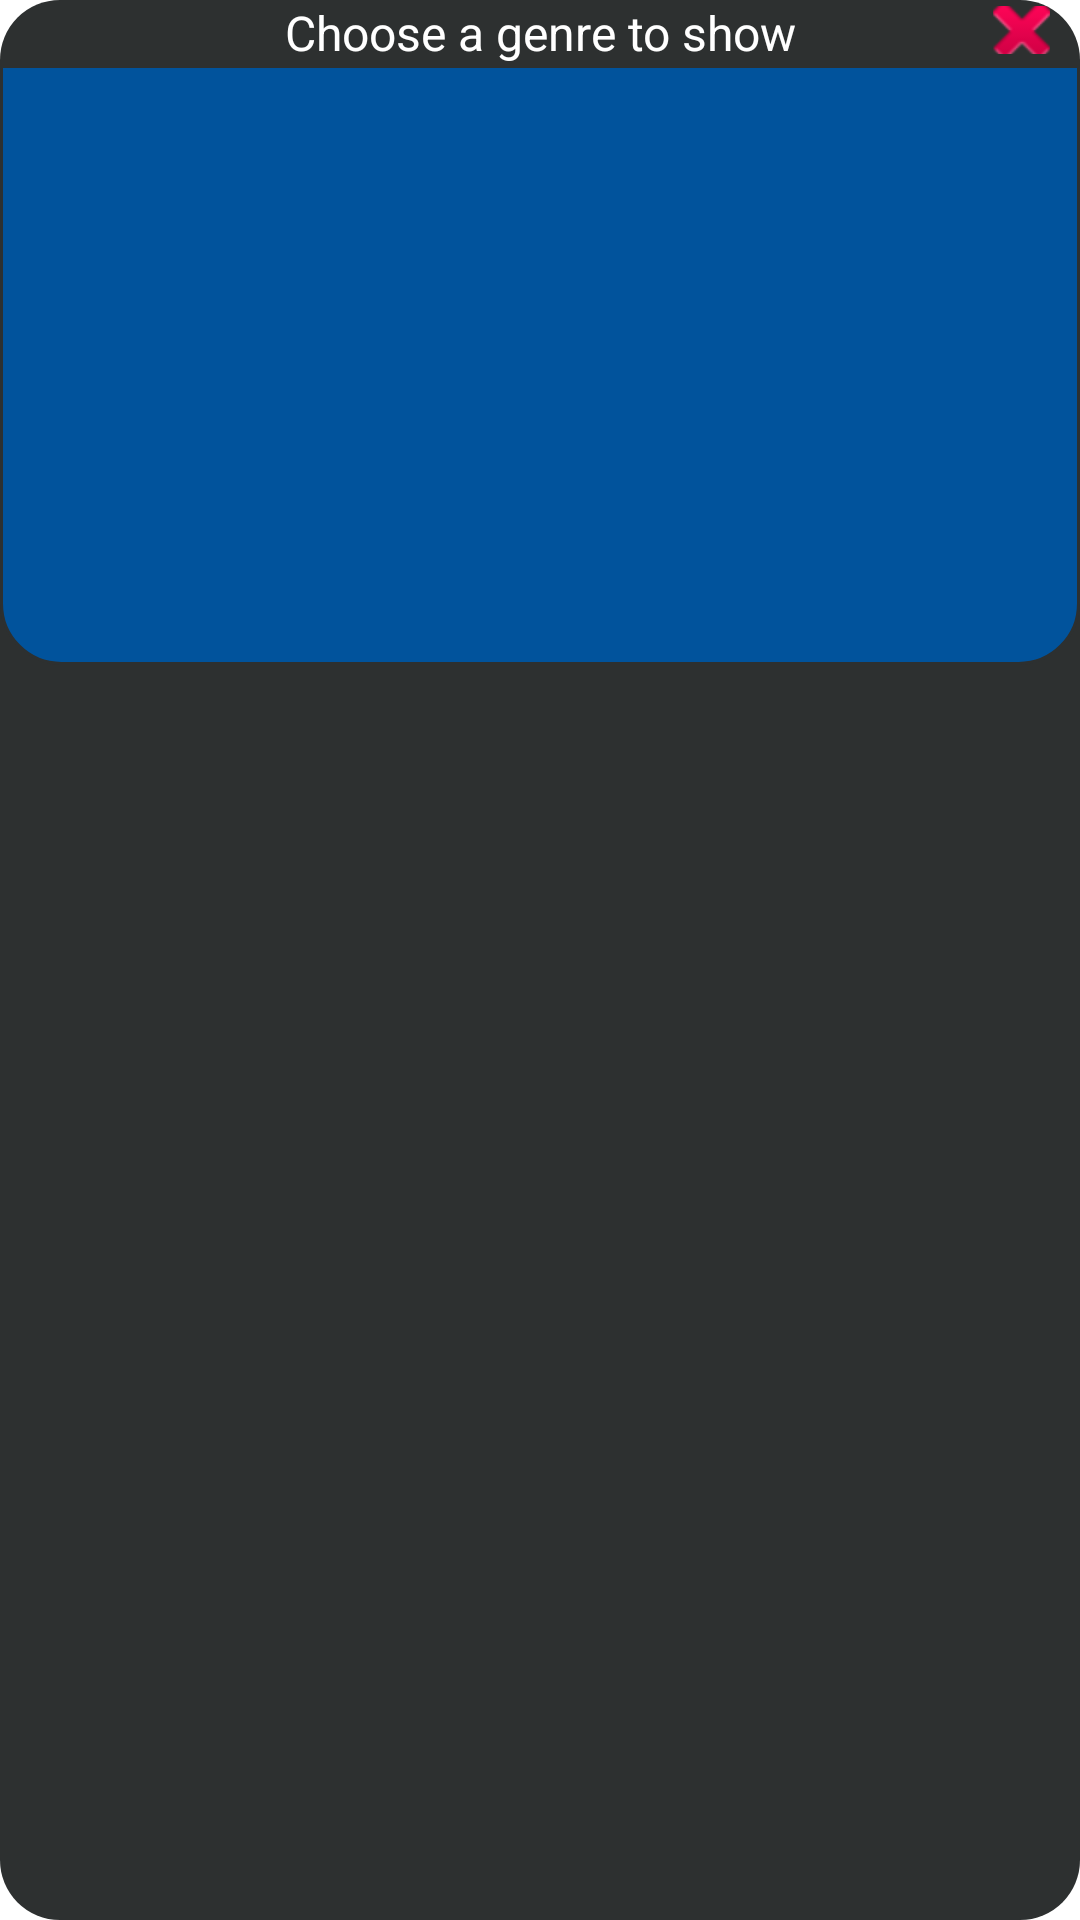

Where icons sit on this 1080px×1920px app screen, as {"x1": x1, "y1": y1, "x2": x2, "y2": y2}:
delete: {"x1": 993, "y1": 6, "x2": 1050, "y2": 54}
